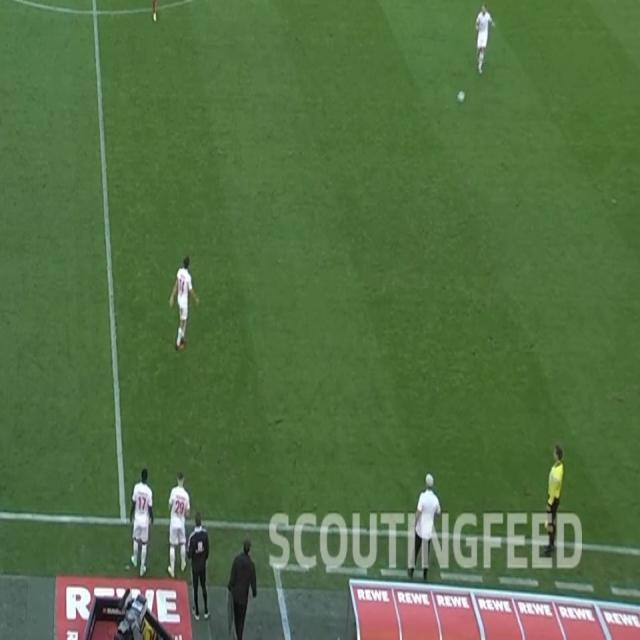ball: (456, 90, 466, 104)
